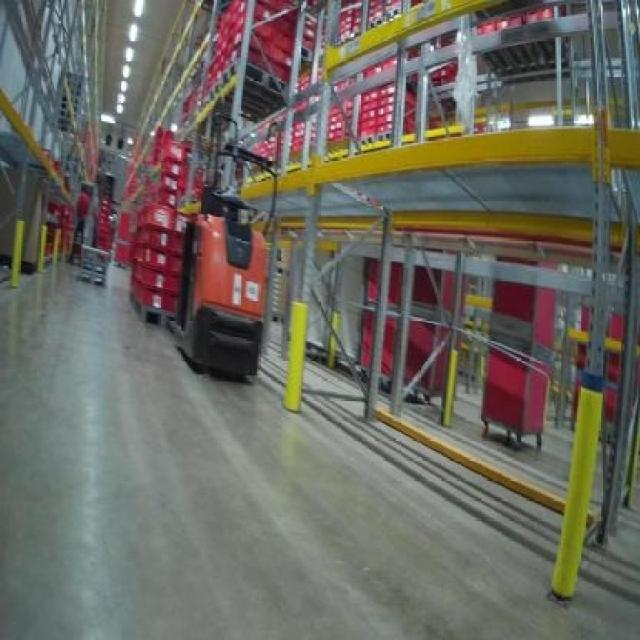floor: (0, 265, 637, 637)
pallets: (171, 195, 263, 374)
